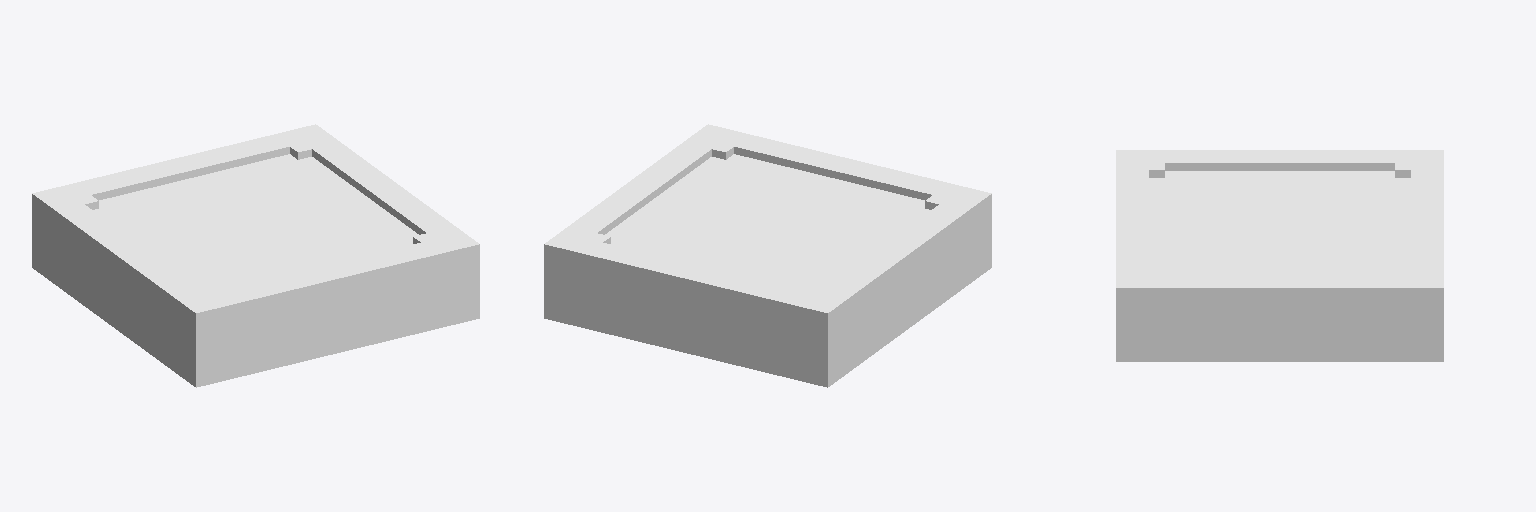
The model's file is cubito_sand_corner.obj.
3 views of the same model, side by side, from view 1: azimuth 30°, elevation 25°; view 2: azimuth 150°, elevation 25°; view 3: azimuth 270°, elevation 25° (orthographic).
Visible parts, largest first — view 1: object 1; view 2: object 1; view 3: object 1.
Part boxes in pixels (left/top/right/bottom): object 1: left=32, top=124, right=479, bottom=387; object 1: left=544, top=124, right=991, bottom=387; object 1: left=1116, top=150, right=1443, bottom=361.
Size of the model in its own units: 4 by 1 by 4.